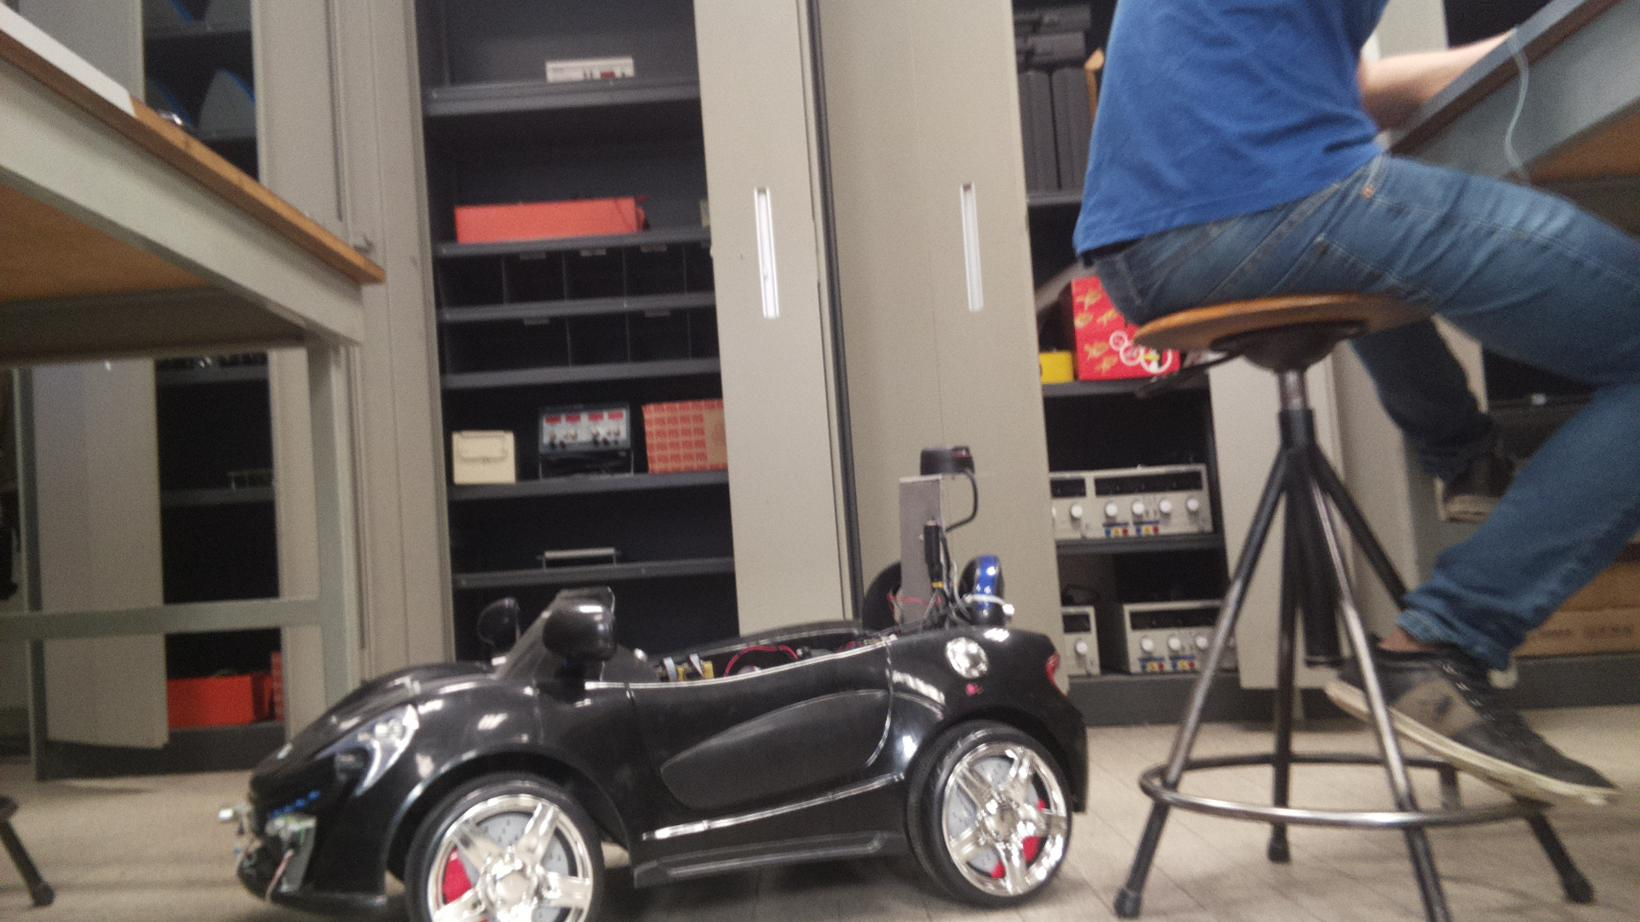big: (215, 557, 1096, 922)
